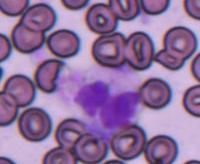D: (77, 66, 144, 142)
